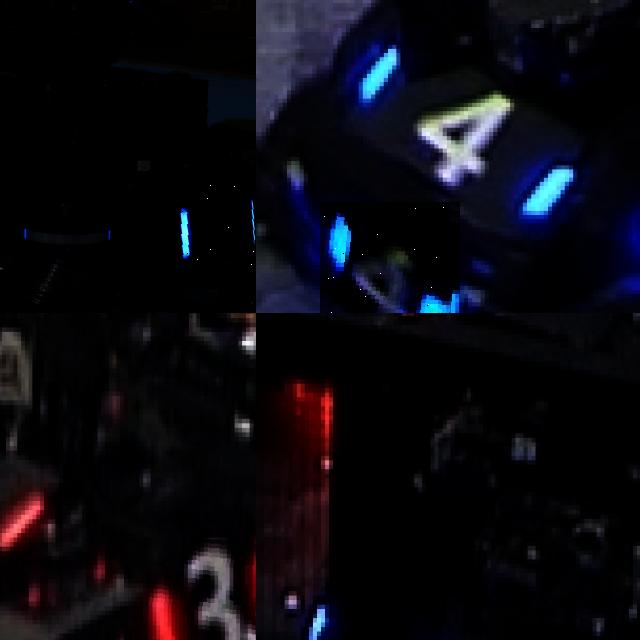B4: (320, 202, 459, 313)
Bs: (178, 176, 256, 271)
R3: (146, 533, 256, 640)
